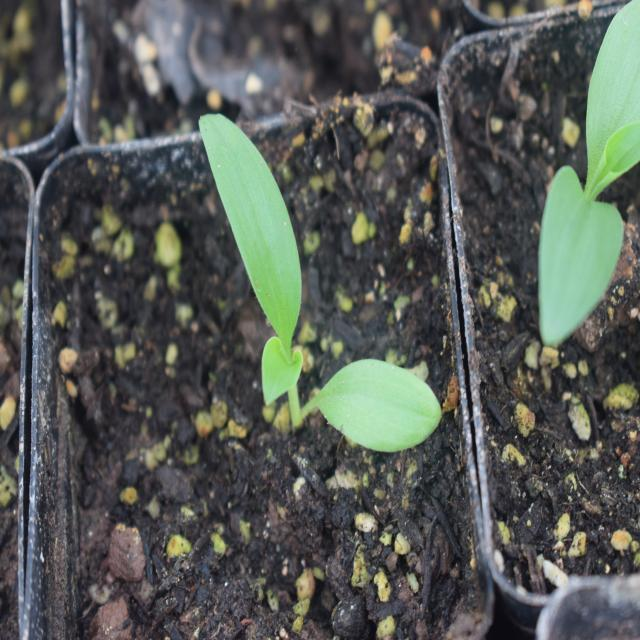Common Dayflower: (201, 107, 440, 482)
